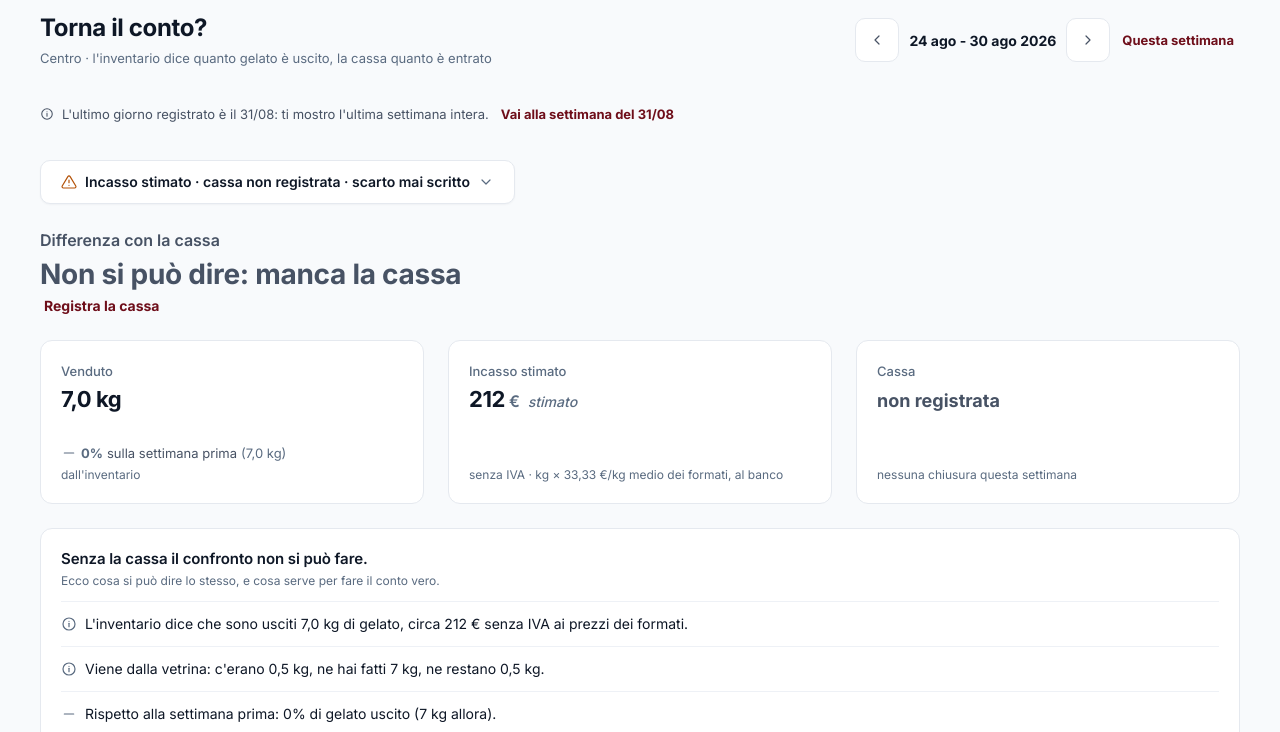
Test case: La settimana di apertura › l'ultimo giorno è un lunedì: si apre sulla settimana intera prima, e lo dice
expect the message shows "L'ultimo giorno registrato è il 31/08: ti mostro l'ultima settimana intera.": met, box [40, 92, 678, 136]
Click the button "Vai alla settimana del 31/08".
click(587, 114)  # box [497, 92, 678, 136]
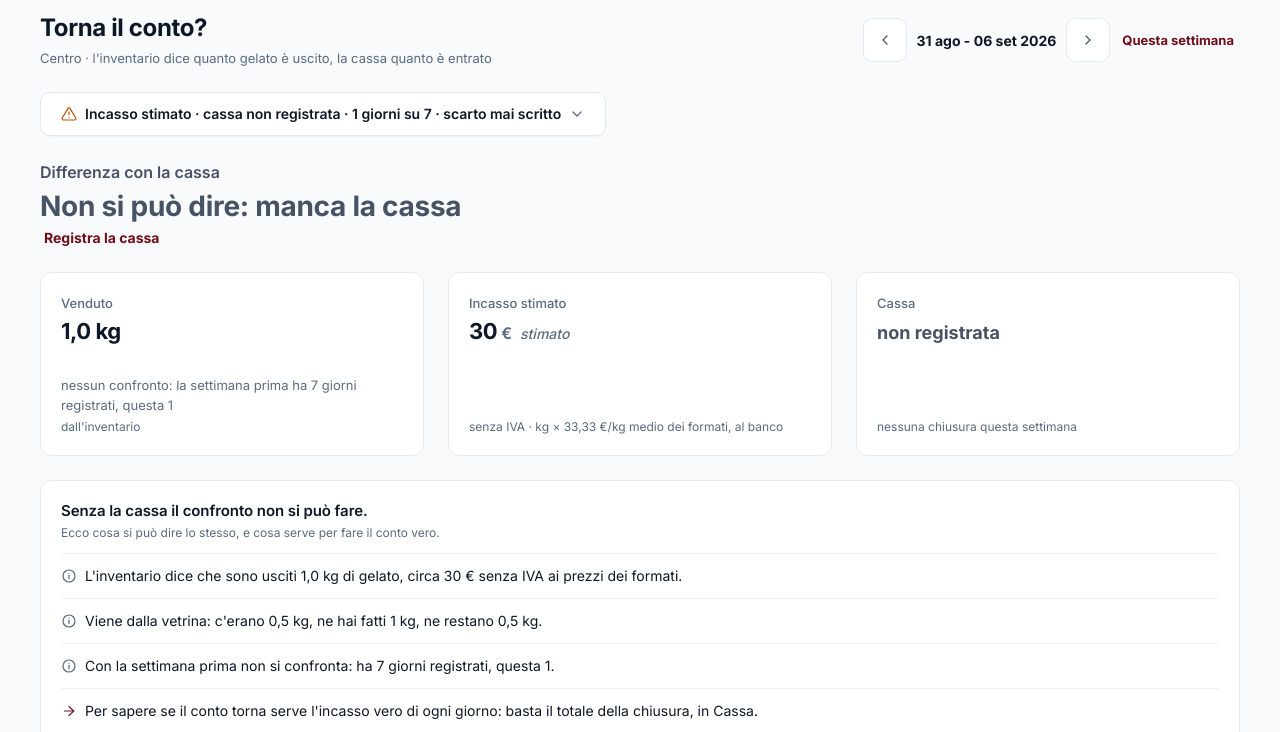
expect the text "31 ago - 06 set 2026" is shown: met, box [913, 32, 1060, 48]
